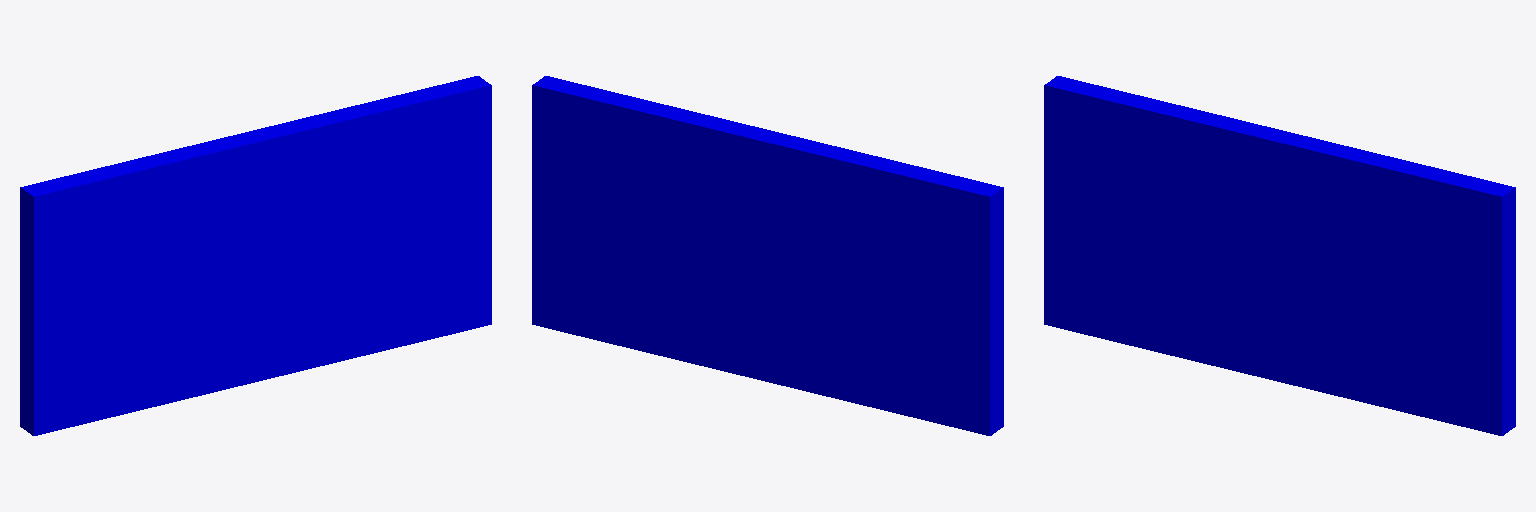
URDF robot description (left_wall):
<?xml version="1.0" ?>
<robot name="left_wall" xmlns:xacro="http://www.ros.org/wiki/xacro">
    <link name="wall_link">
        <inertial>
            <origin rpy="0 0 0" xyz="0 0 0"/>
            <mass value=".1"/>
            <inertia ixx="0" ixy="0" ixz="0" iyy="0" iyz="0" izz="0"/>
        </inertial>
        <visual>
            <origin rpy="0 0 0" xyz="0.5 0 0.25"/>
            <geometry>
                <box size="1.0 0.05 0.5"/>
            </geometry>
            <material name='blue'>
                <color rgba="0.0 0.0 1.0 1.0"/>
            </material>
        </visual>
    </link>
</robot>

--- What the picture shows (computed from the rendered views, not written in the file) ---
The picture shows the robot from 3 angles, left to right: view 1: azimuth 30°, elevation 25°; view 2: azimuth 150°, elevation 25°; view 3: azimuth 330°, elevation 25°; orthographic projection.
Model left_wall with 1 links and 0 joints (none), rooted at wall_link, posed every joint at zero.
Links seen in each view (by area): view 1: wall_link; view 2: wall_link; view 3: wall_link.
Boxes of the visible links, x1,y1,x2,y2 form: wall_link: (20, 76, 491, 435); wall_link: (532, 76, 1003, 435); wall_link: (1044, 76, 1515, 435).
Size in the robot's own frame: 1 by 0.05 by 0.5 metres.
Geometry: primitives only (box / cylinder / sphere), no mesh files.